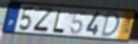4: (85, 10, 101, 37)
5: (17, 5, 36, 32), (69, 9, 87, 35)
D: (100, 11, 121, 39)
L: (51, 8, 65, 35)
Z: (32, 6, 56, 34)
